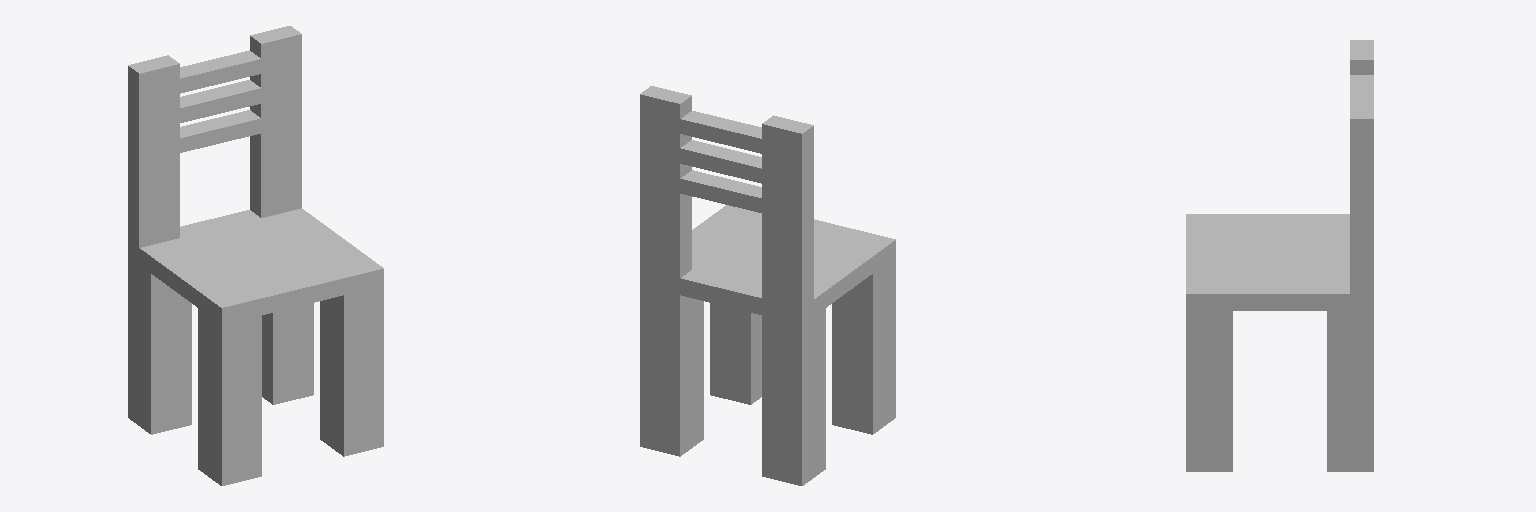
Rendered from chair.obj.
The picture shows the model from 3 angles: view 1: azimuth 30°, elevation 25°; view 2: azimuth 150°, elevation 25°; view 3: azimuth 270°, elevation 25°; orthographic projection.
Parts seen in each view (by area): view 1: Cube; view 2: Cube; view 3: Cube.
Boxes of the visible parts, box(x1,y1,x2,y2) form: Cube: box(128, 26, 383, 485); Cube: box(640, 86, 895, 485); Cube: box(1186, 40, 1373, 471).
Bounding box in the file's own units: 2 × 4.14 × 2.